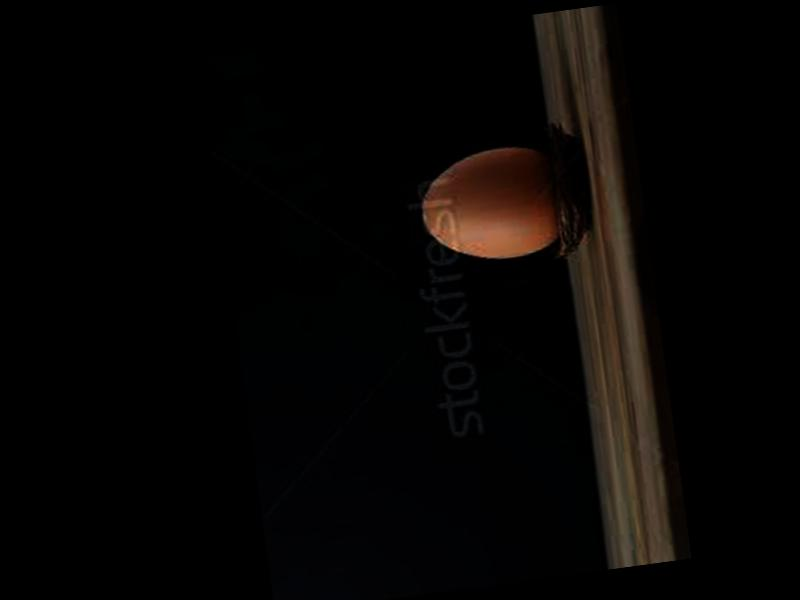Eggs: (415, 139, 564, 266)
